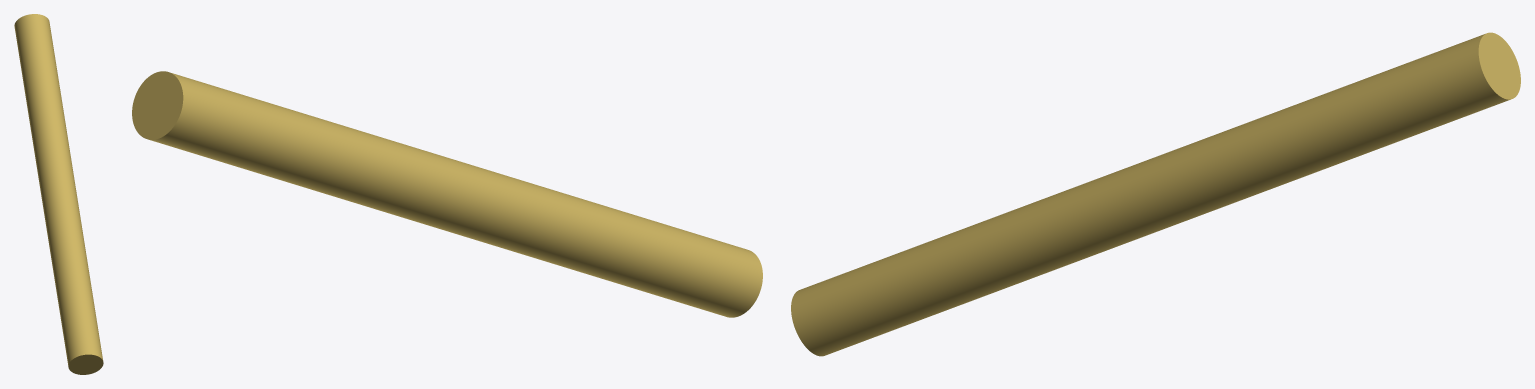
The model's file is triggeryellow.fbx.
3 views of the same model, side by side, from view 1: azimuth 30°, elevation 25°; view 2: azimuth 150°, elevation 25°; view 3: azimuth 270°, elevation 25° (orthographic). The views are drawn at different scales.
Parts seen in each view (by area): view 1: Object_1; view 2: Object_1; view 3: Object_1.
Boxes of the visible parts, bbox=[...] form: Object_1: bbox=[14, 14, 103, 374]; Object_1: bbox=[132, 71, 762, 317]; Object_1: bbox=[791, 32, 1520, 356].
Bounding box in the file's own units: 0.961 × 2.07 × 1.34.
